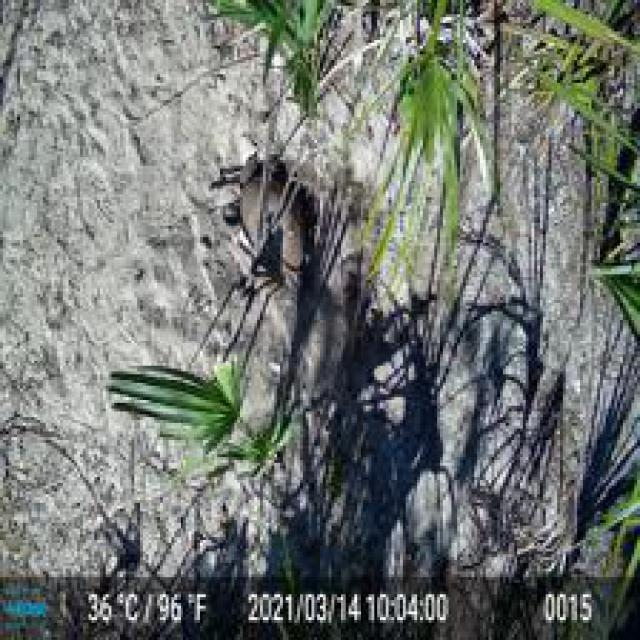tortoise: (232, 171, 308, 280)
